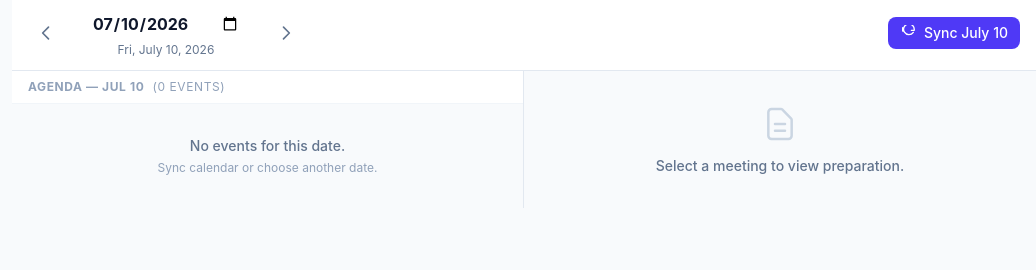
Test: MeetingsView — Calendar Sync › shows sync success count feedback
The image size is (1036, 270).
Click the button "Sync July 10" at (954, 33), box [888,17,1020,49]
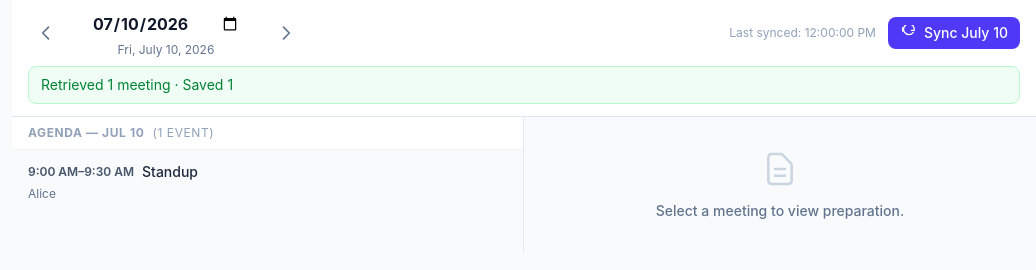
Result: the text "Retrieved 1 meeting · Saved 1" is shown at [28,66,1020,104]
